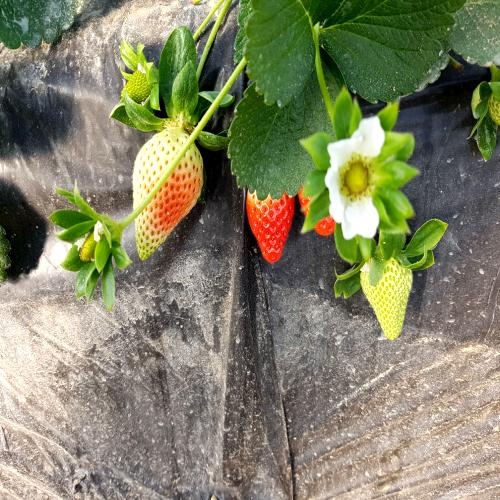partially-ripe: (131, 117, 209, 260)
ripe: (243, 161, 299, 268)
